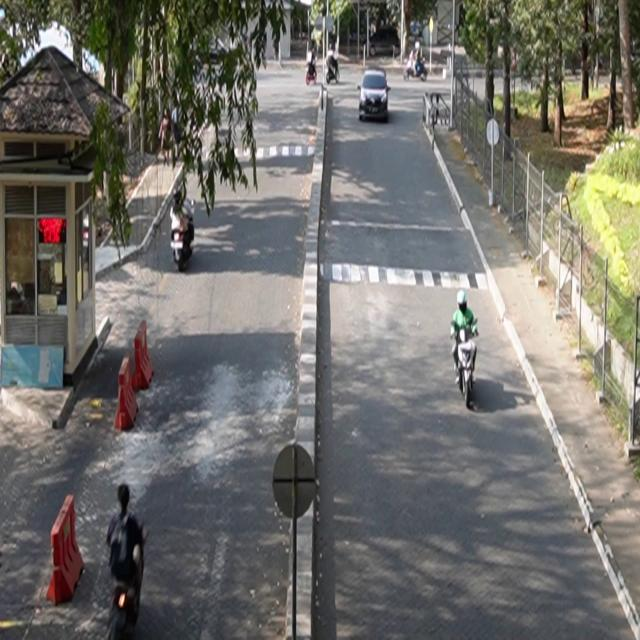car: (358, 69, 392, 123)
